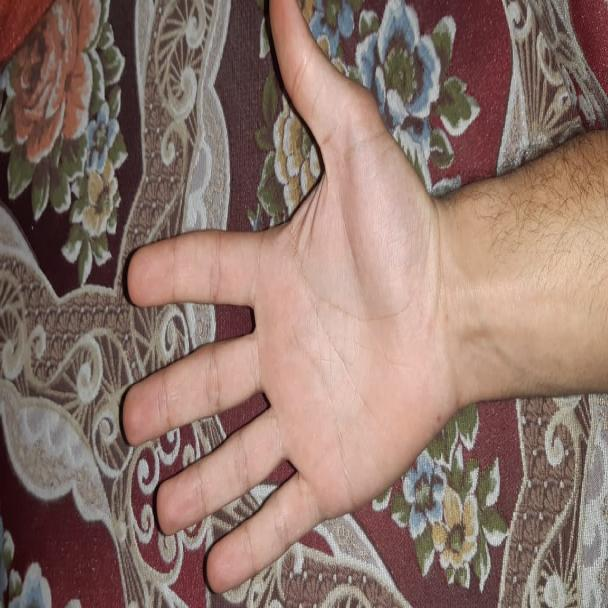five: (119, 0, 453, 593)
